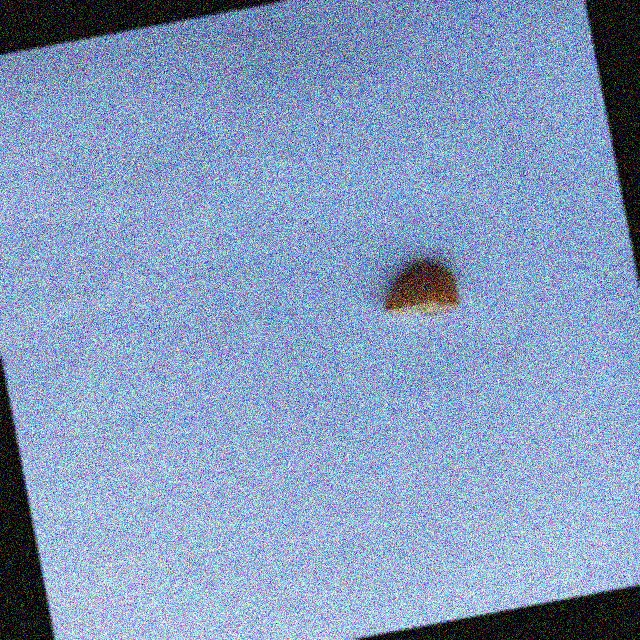grade4: (368, 251, 469, 330)
